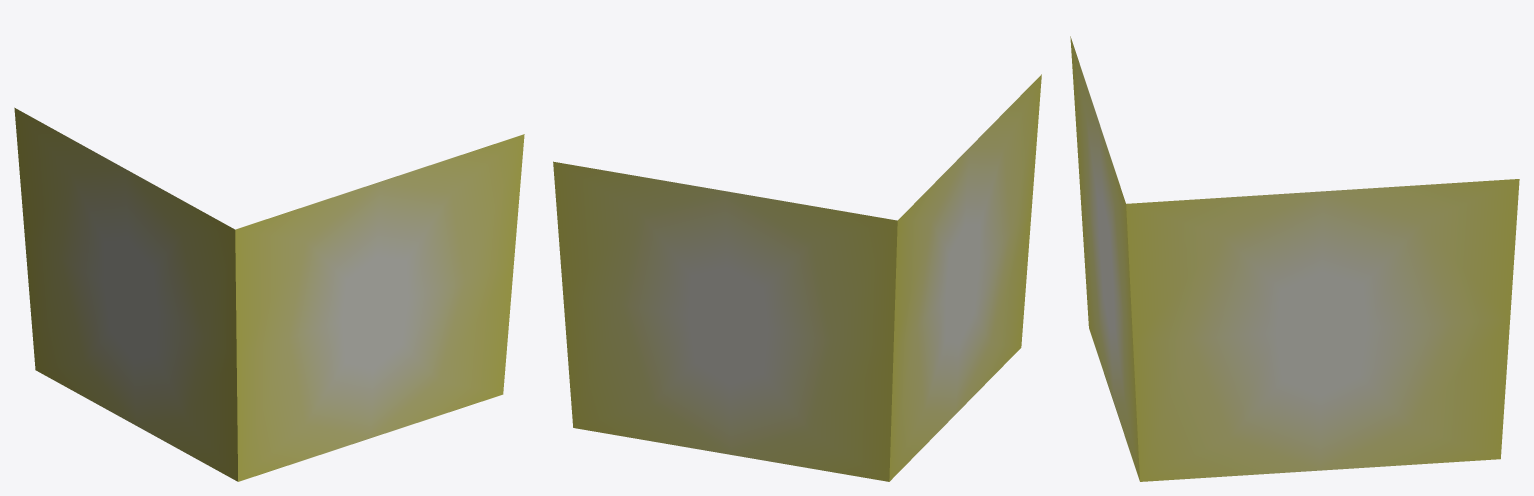
The model's file is LanternBackRight_1.glb.
3 views of the same model, side by side, from view 1: azimuth 30°, elevation 25°; view 2: azimuth 150°, elevation 25°; view 3: azimuth 270°, elevation 25° (orthographic). The views are drawn at different scales.
Parts seen in each view (by area): view 1: LanternBackRight; view 2: LanternBackRight; view 3: LanternBackRight.
Boxes of the visible parts, x1,y1,x2,y2 form: LanternBackRight: [14, 107, 524, 481]; LanternBackRight: [553, 74, 1041, 481]; LanternBackRight: [1070, 36, 1519, 481].
Bounding box in the file's own units: 0.6568 × 0.4616 × 0.6568.
